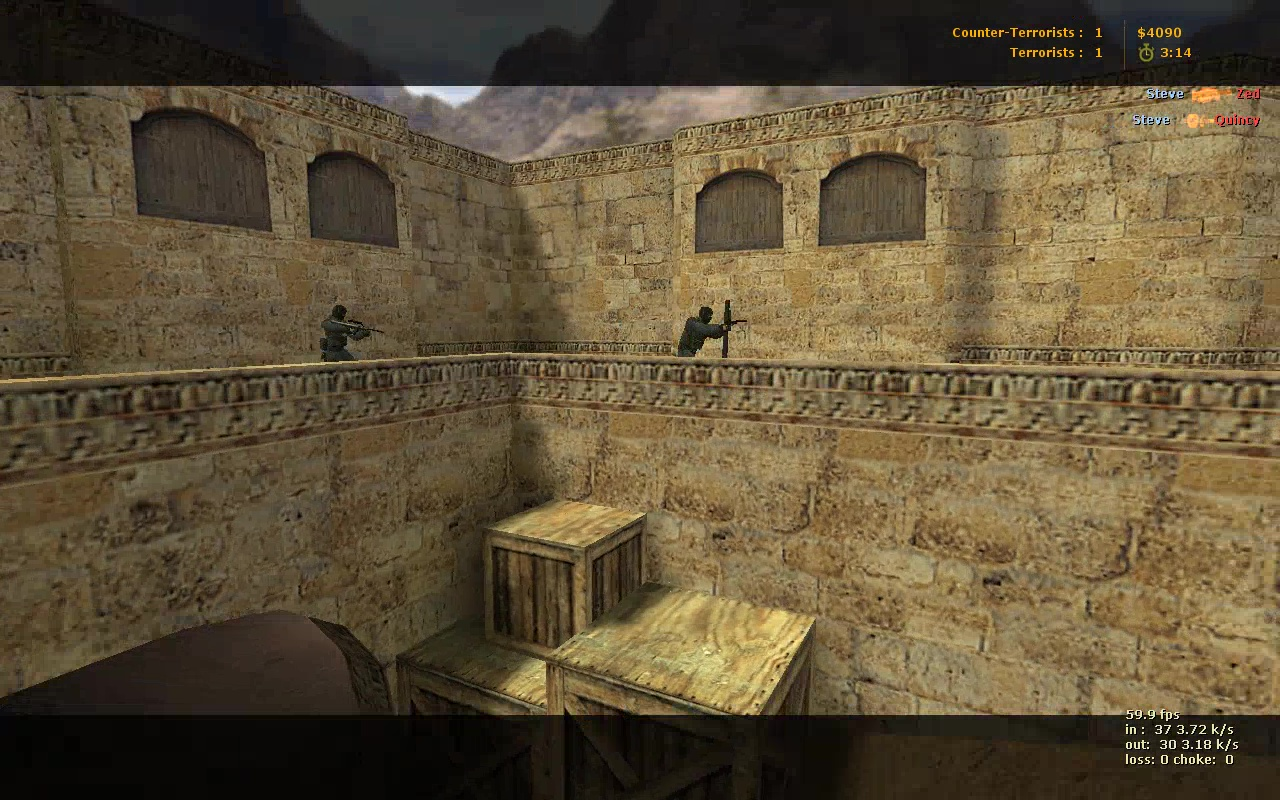ct: (678, 303, 739, 358), (319, 308, 379, 363)
